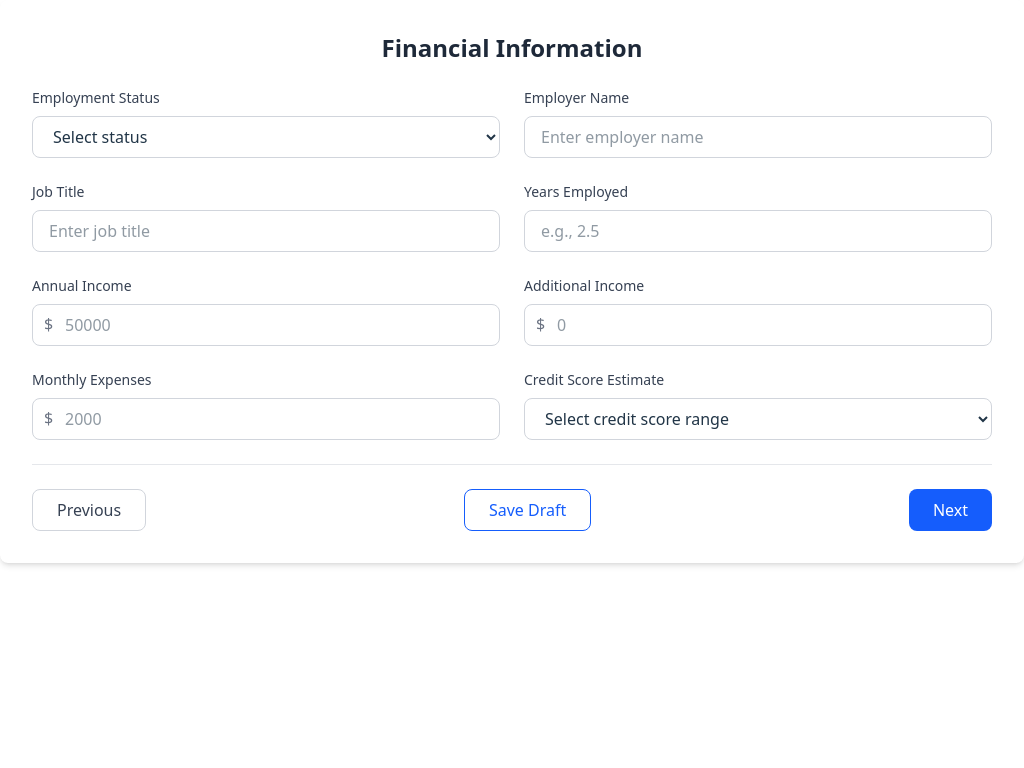
Test case: FinancialInformation Component › Validation - Field Formats › should show error when employer name is too short
Type "A" into the field labelled "Employer Name".
click(758, 137); type("A")  # box x1=524 y1=116 x2=992 y2=158
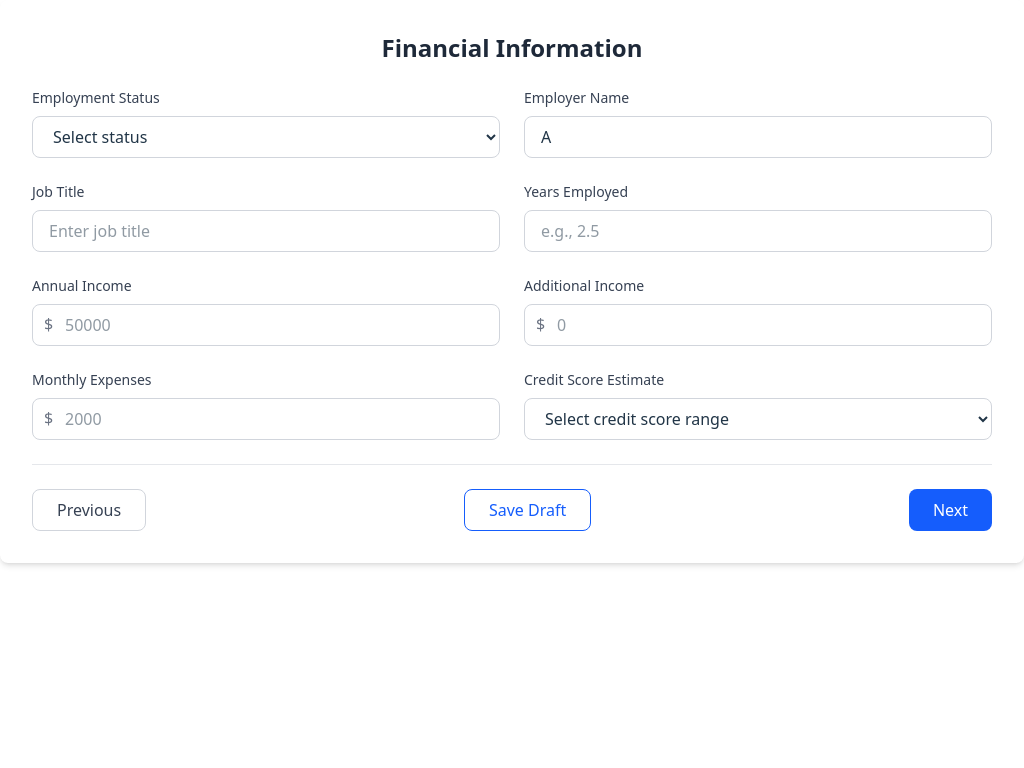
Leave the field labelled "Employer Name", box x1=524 y1=116 x2=992 y2=158
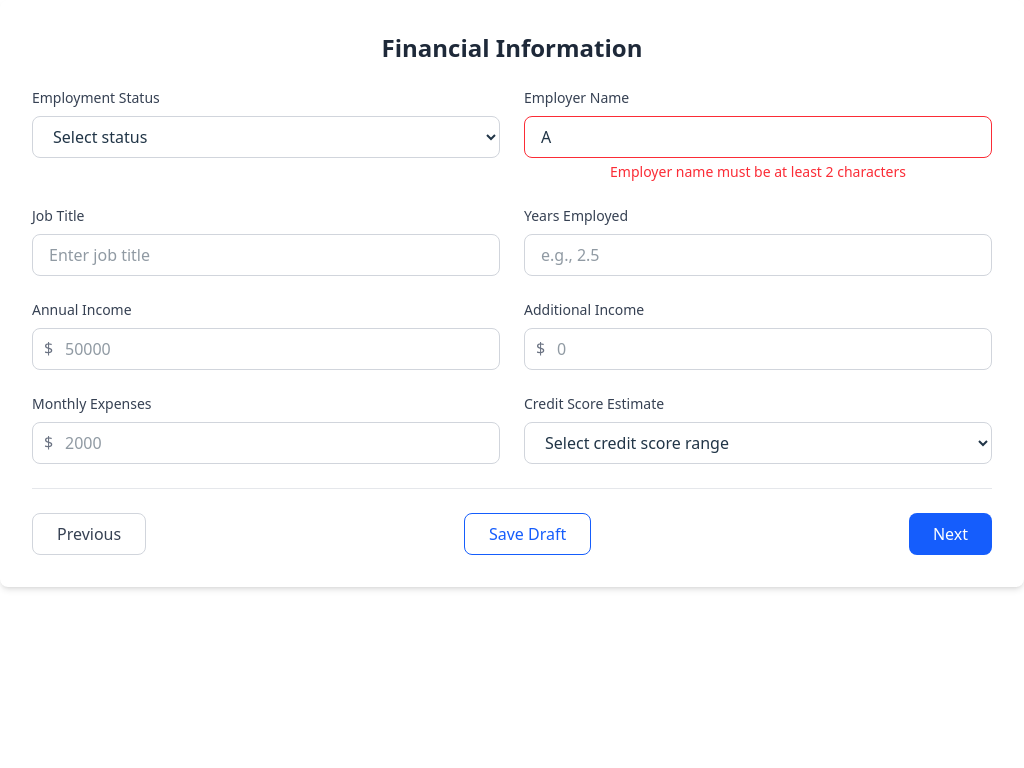
Now the text "Employer name must be at least 2 characters" is shown, box x1=610 y1=162 x2=906 y2=181
